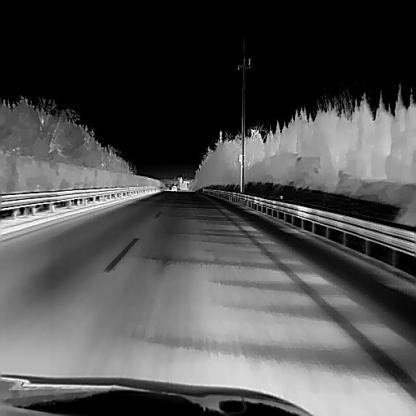car: (170, 184, 177, 191)
